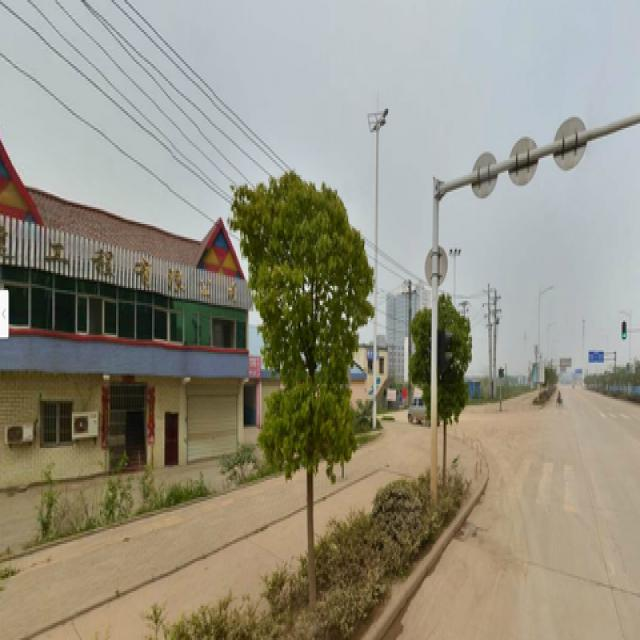cinn: (226, 171, 374, 597)
